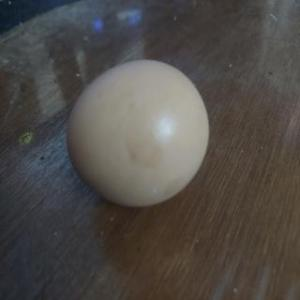egg: (64, 57, 210, 210)
